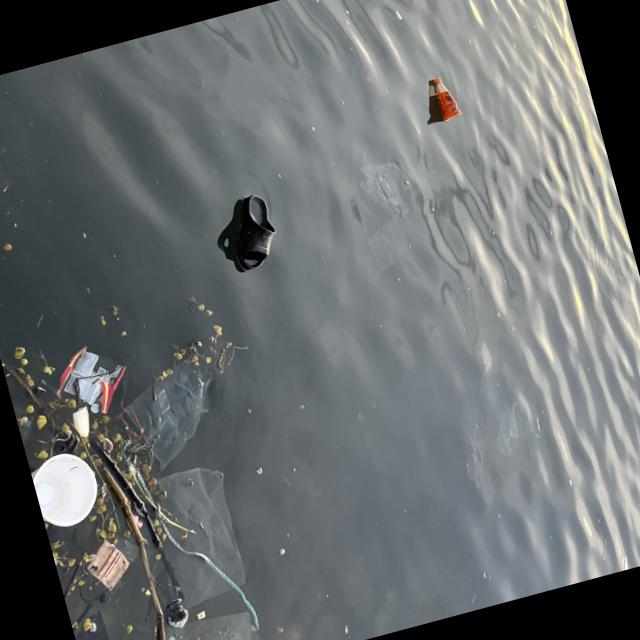foam: (28, 448, 106, 533), (69, 406, 95, 442), (163, 598, 191, 631)
plastic bag: (57, 344, 129, 413)
plastic bottle: (432, 75, 462, 122)
